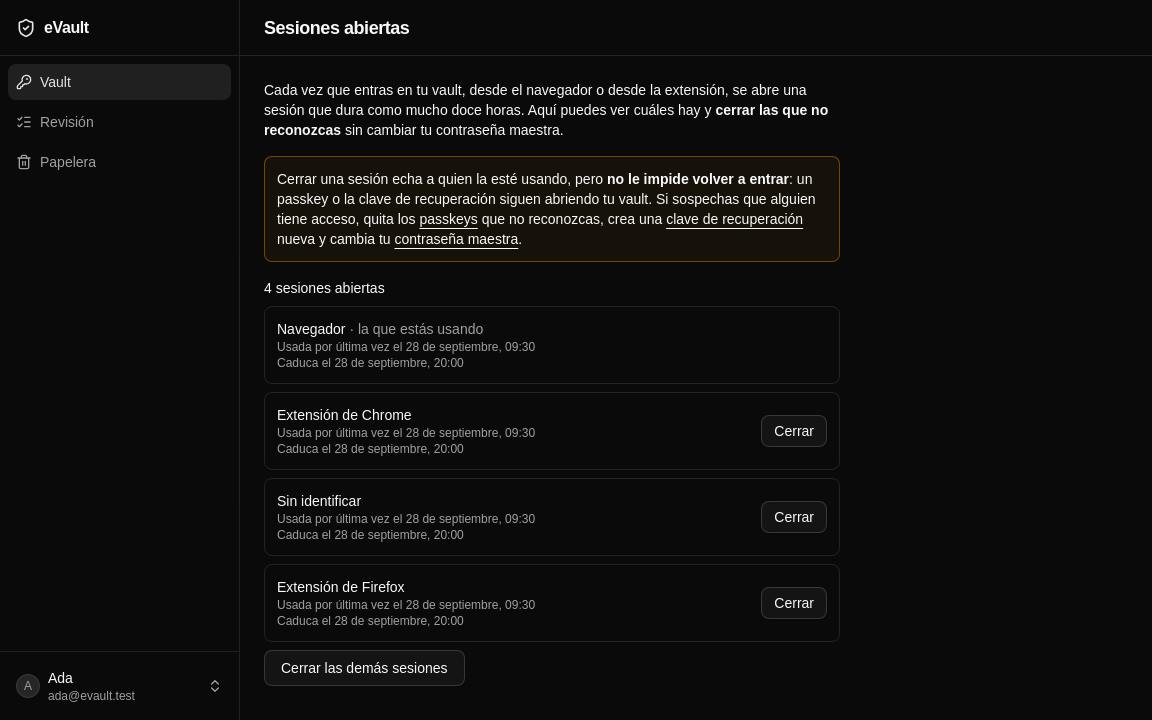
Scenario: closing › closes all the others in one go and says how many
This screenshot has width=1152, height=720.
What coordinates should you click on to do the following:
click the button "Cerrar las demás sesiones"
I would click on:
 (364, 668)
Its box is [264,650,464,686].
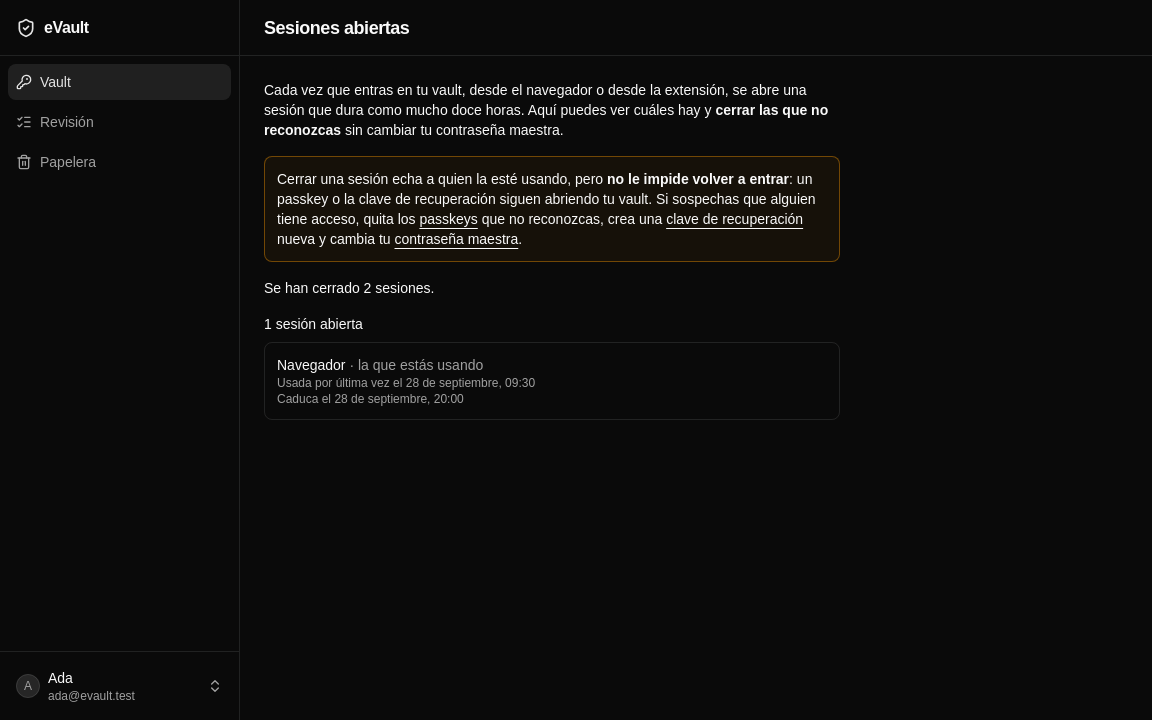
Check: the message reads "Se han cerrado 2 sesiones.", box [264,280,434,296]
Check: the heading "1 sesión abierta" is shown, box [264,316,363,332]
